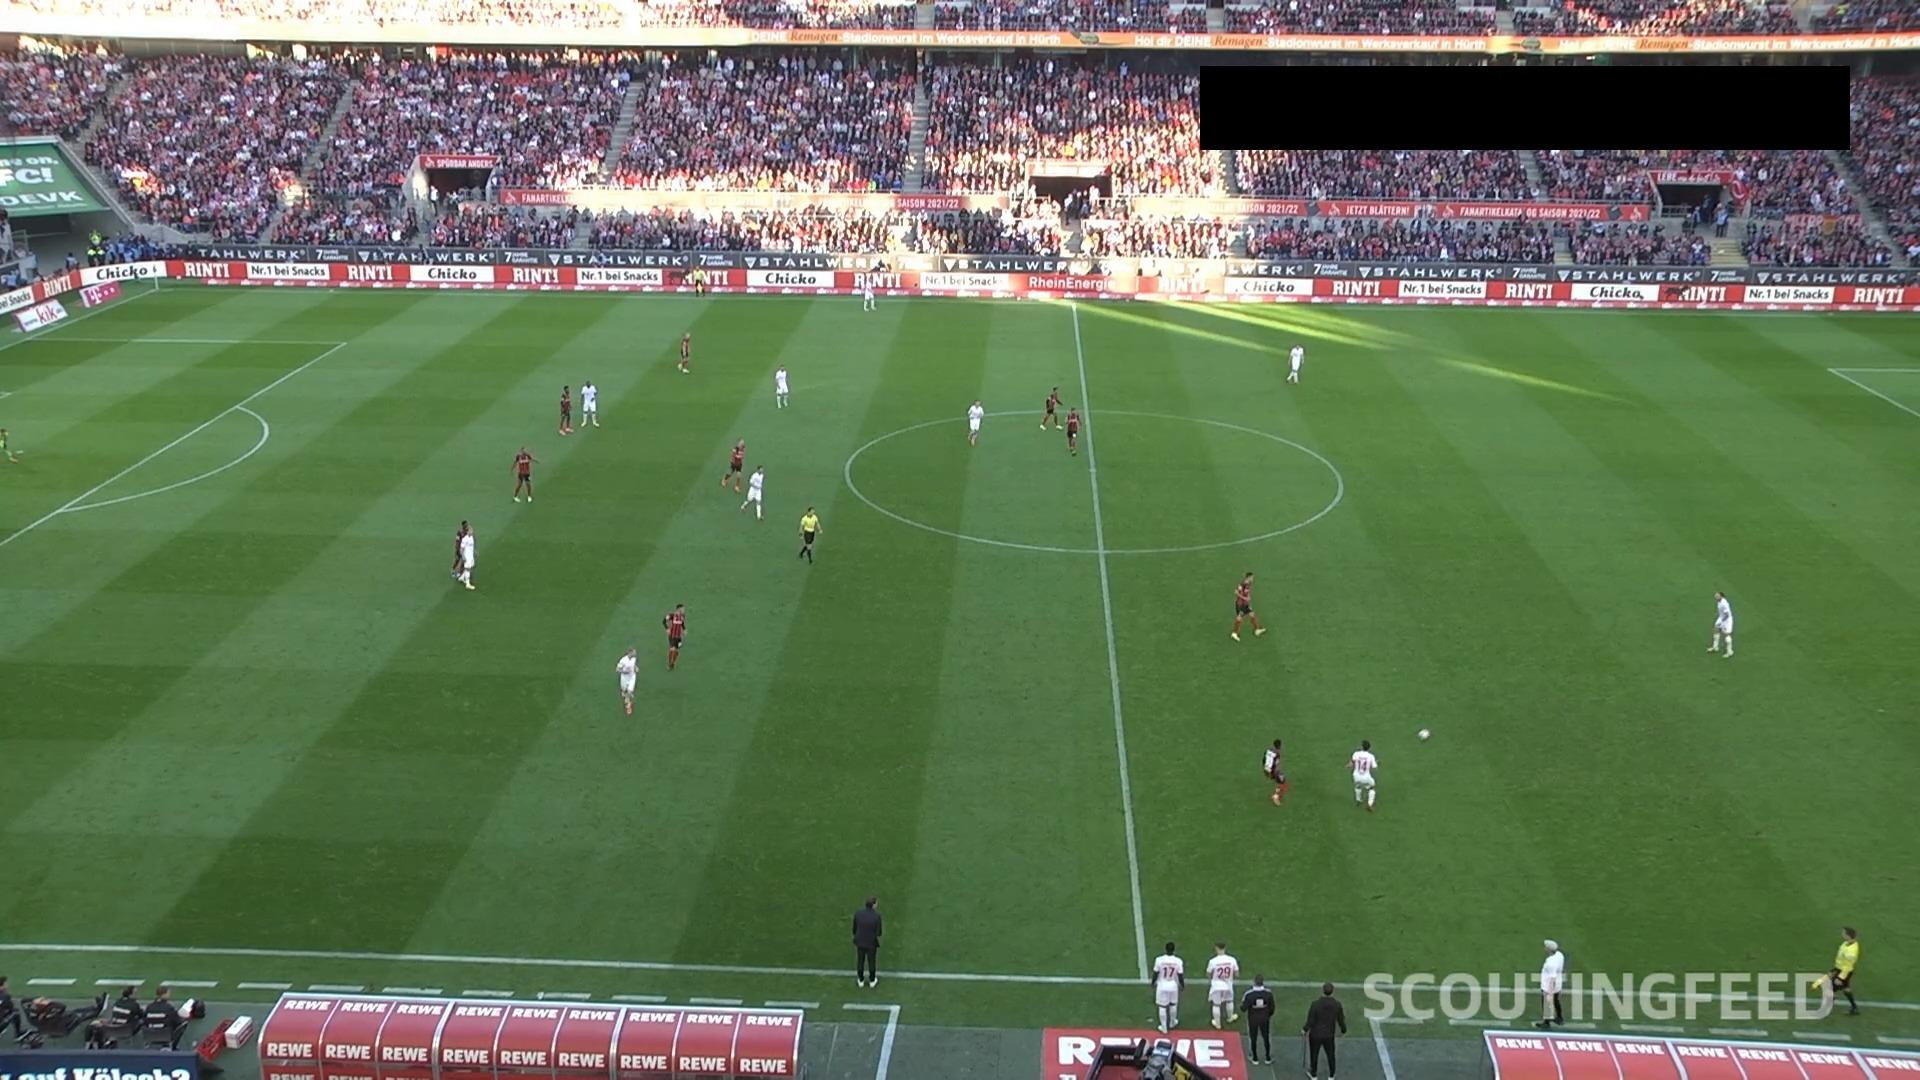ball: (1418, 728, 1431, 742)
